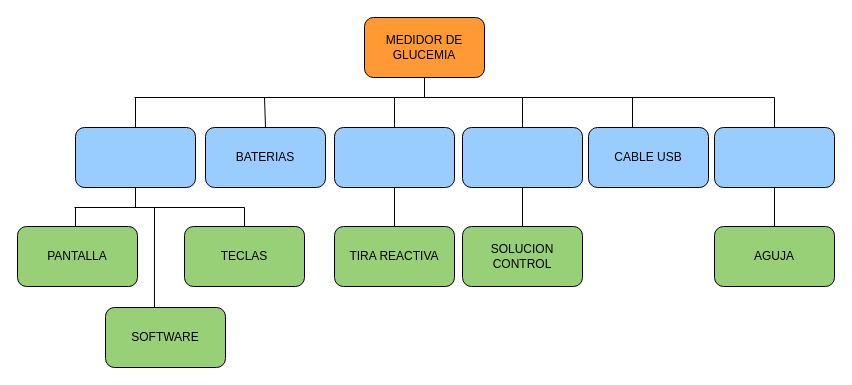
The diagram is 852 pixels wide and 385 high, and some of its shapes have lost their labels. The shapes that lost their labels are listed below. From the top down, each one's centre as x and y in pixels, then its label:
the point at 135,157: MEDIDOR
the point at 394,157: TUBO DE TIRAS REACTIVAS
the point at 522,157: FRASCO DE SOLUCION
the point at 774,157: DISPOSITIVO DE PUNCION
